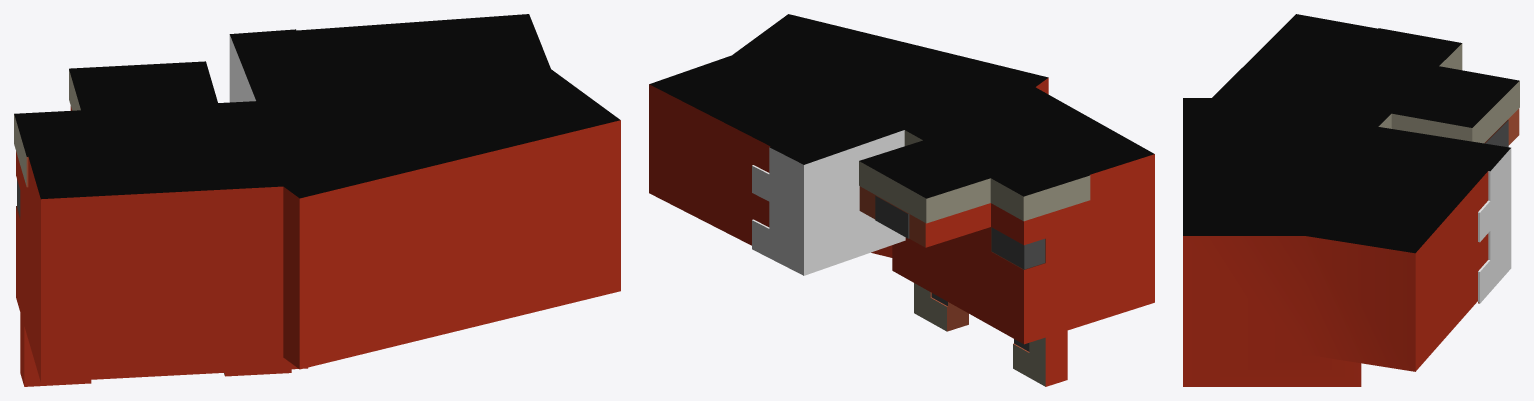
File: SleepingFox.fbx
The picture shows the model from 3 angles, left to right: view 1: azimuth 30°, elevation 25°; view 2: azimuth 150°, elevation 25°; view 3: azimuth 270°, elevation 25°; orthographic projection. The views are drawn at different scales.
Parts seen in each view (by area): view 1: Object_2; view 2: Object_2; view 3: Object_2.
Boxes of the visible parts, box(x1,y1,x2,y2) form: Object_2: box(14, 14, 620, 386); Object_2: box(649, 14, 1154, 386); Object_2: box(1183, 14, 1519, 386).
Size of the model in its own units: 9526 by 4000 by 5664.
